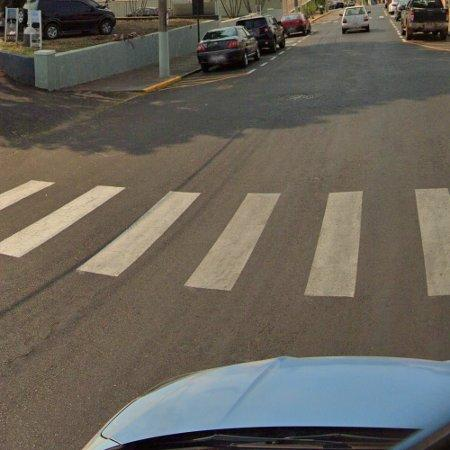crosswalks: (0, 176, 450, 298)
